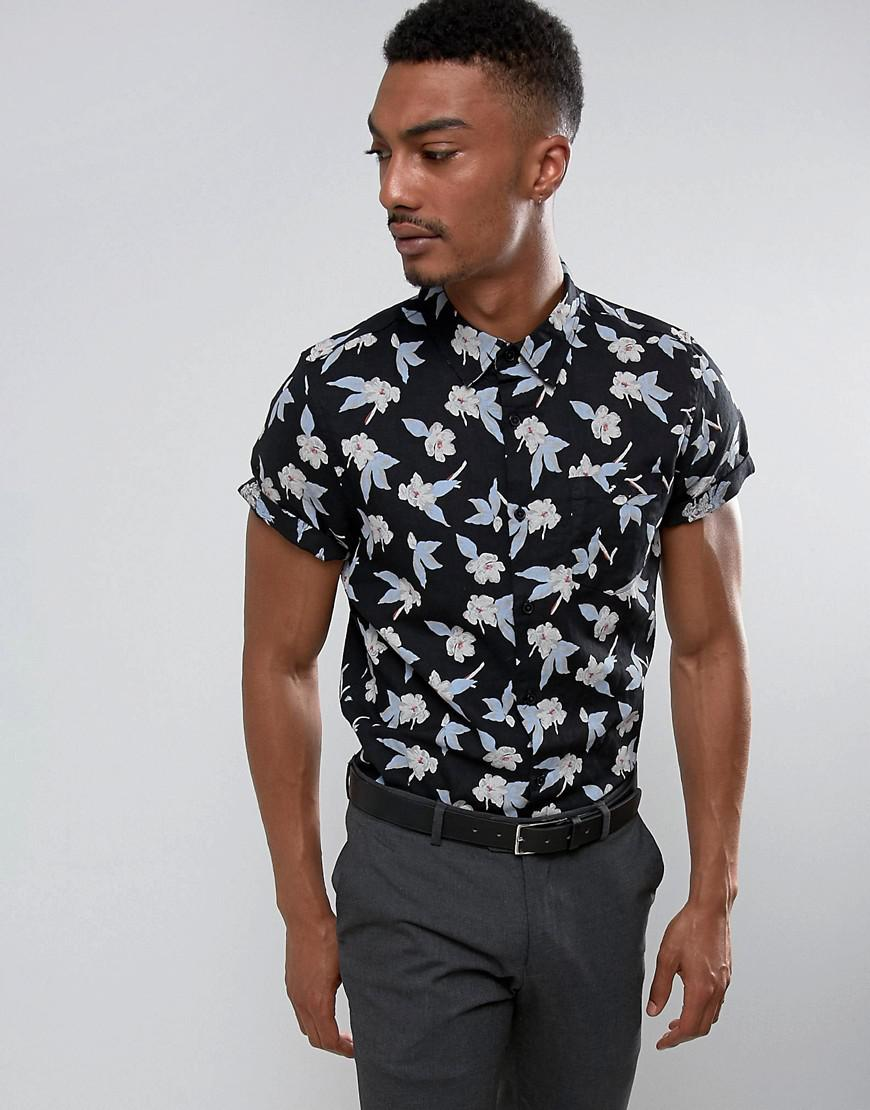teeshirt: (235, 262, 756, 852)
